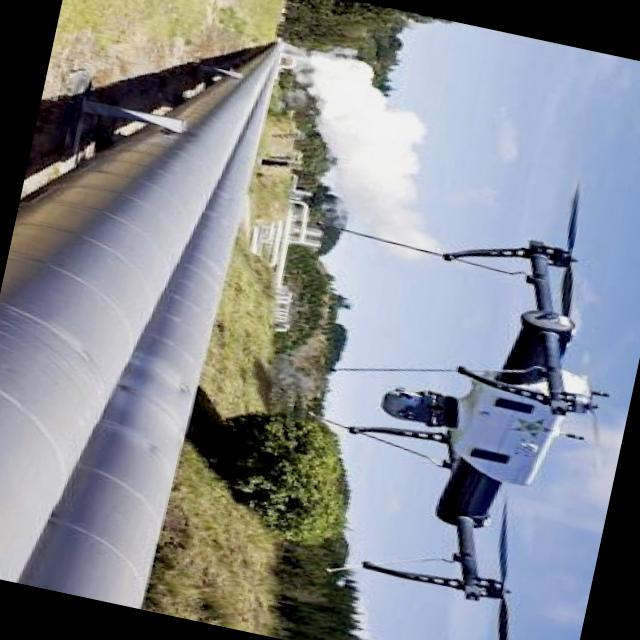gas: (0, 45, 283, 582), (17, 63, 275, 608)
